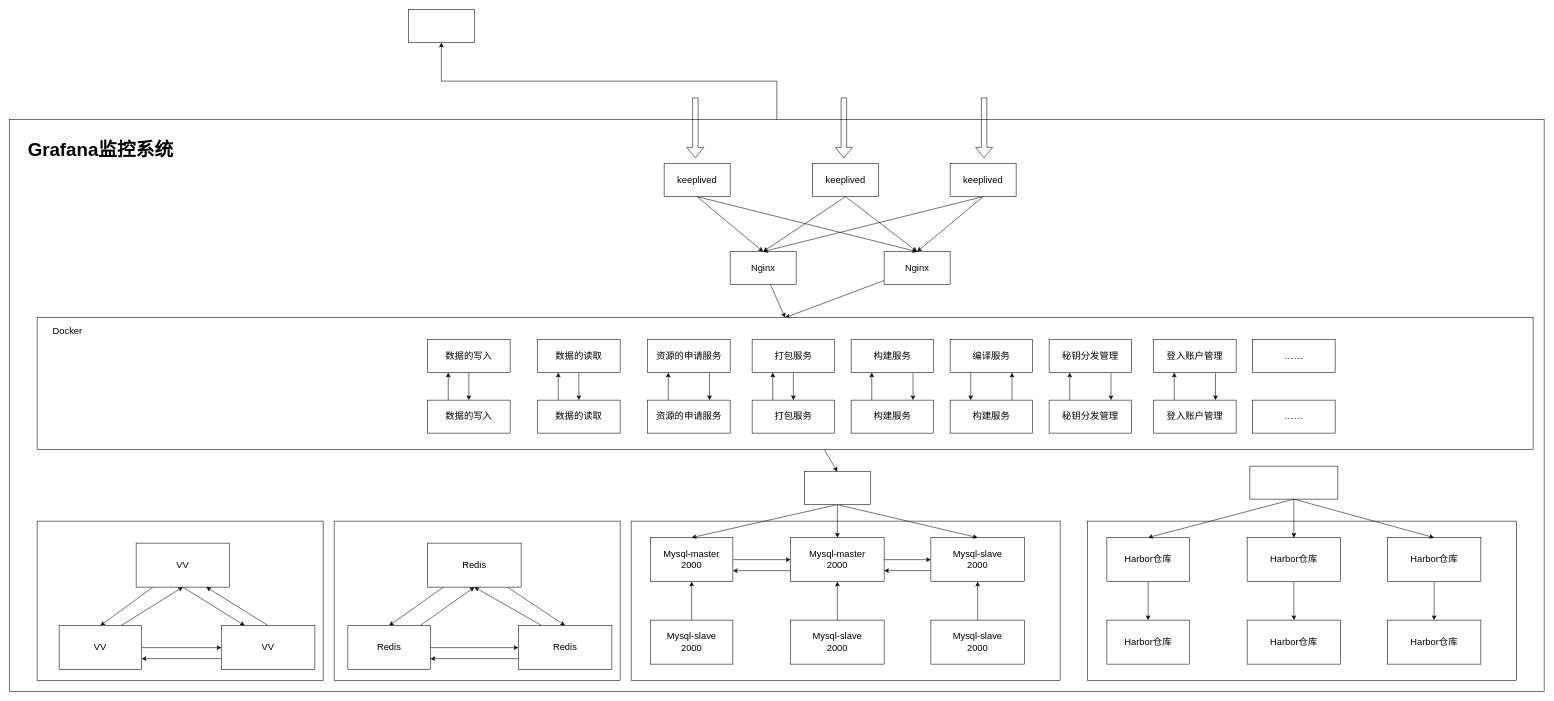
This 1554x701 diagram has some shape labels left out. The shapes that lost their labels are listed below. From the top down, each one's centre as x and y in pixels, then its label:
At point 441,26: "运维人员".
At point 837,488: "mycat".
At point 1293,482: "Harbor仓库集群".
